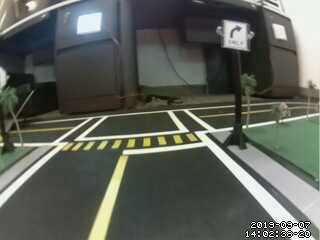Right_only_sign: (223, 20, 252, 56)
